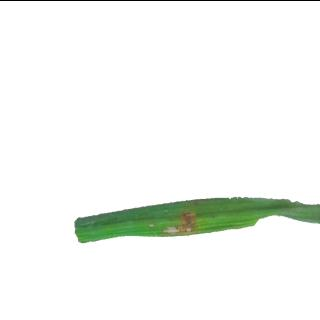Blast: (180, 208, 197, 234)
